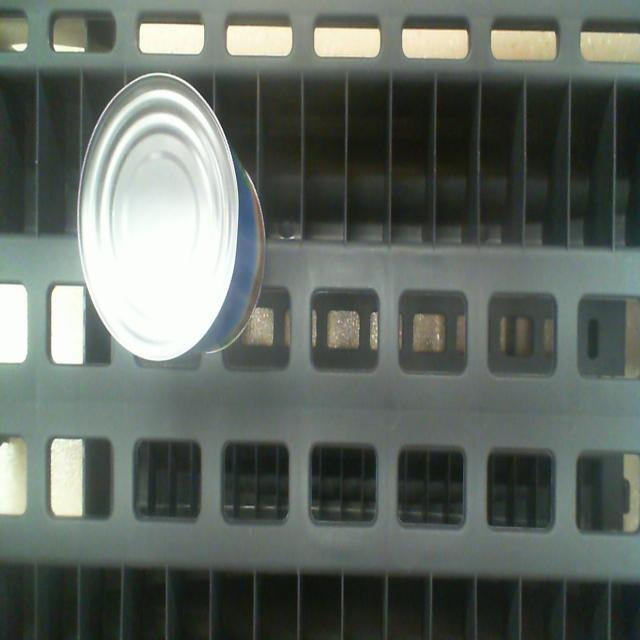can: (75, 71, 235, 363)
